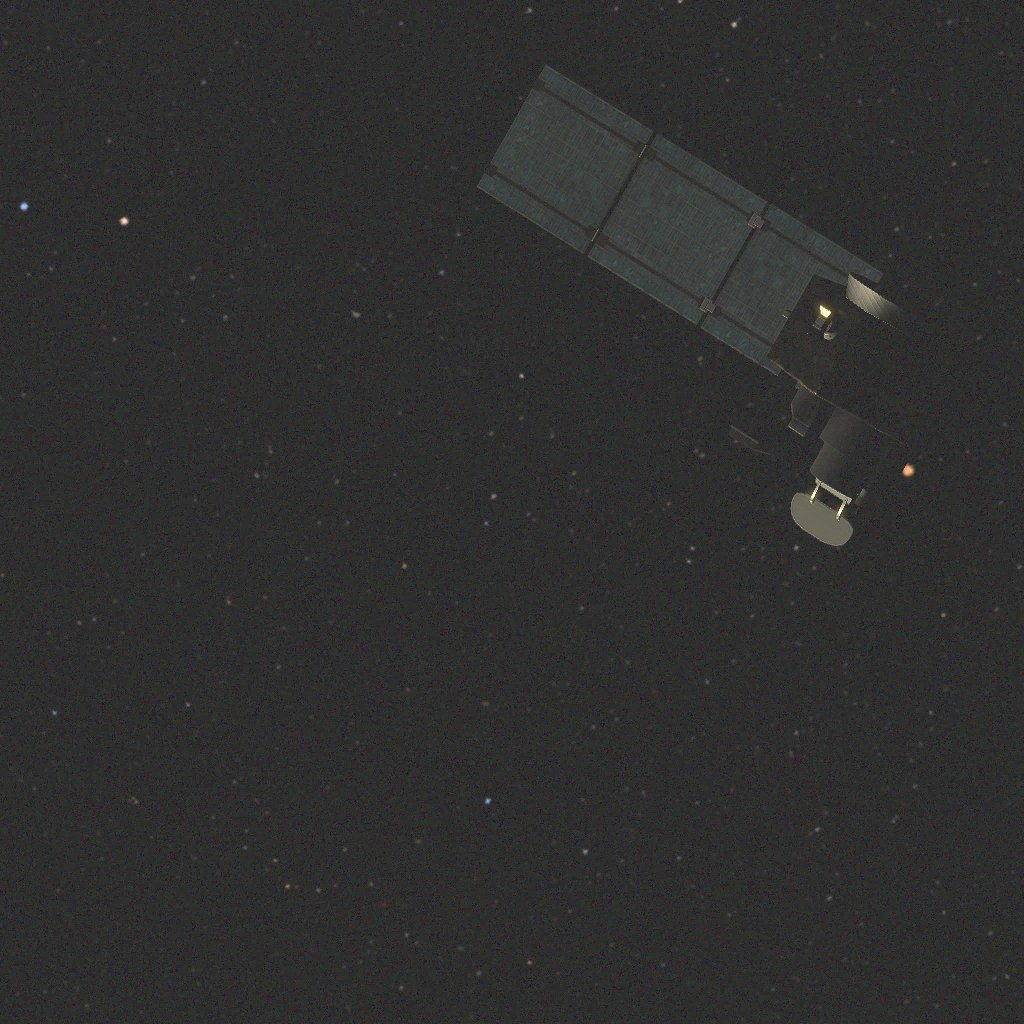earth_observation_sat_1: (477, 65, 993, 546)
